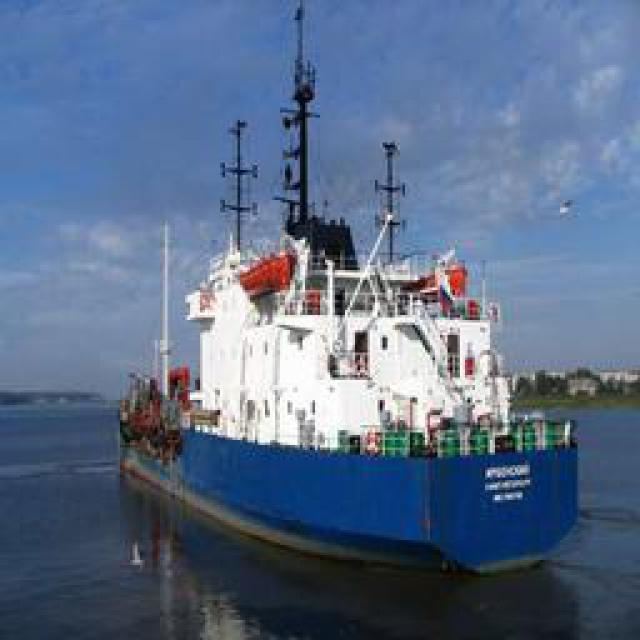Ship: (109, 5, 584, 580)
